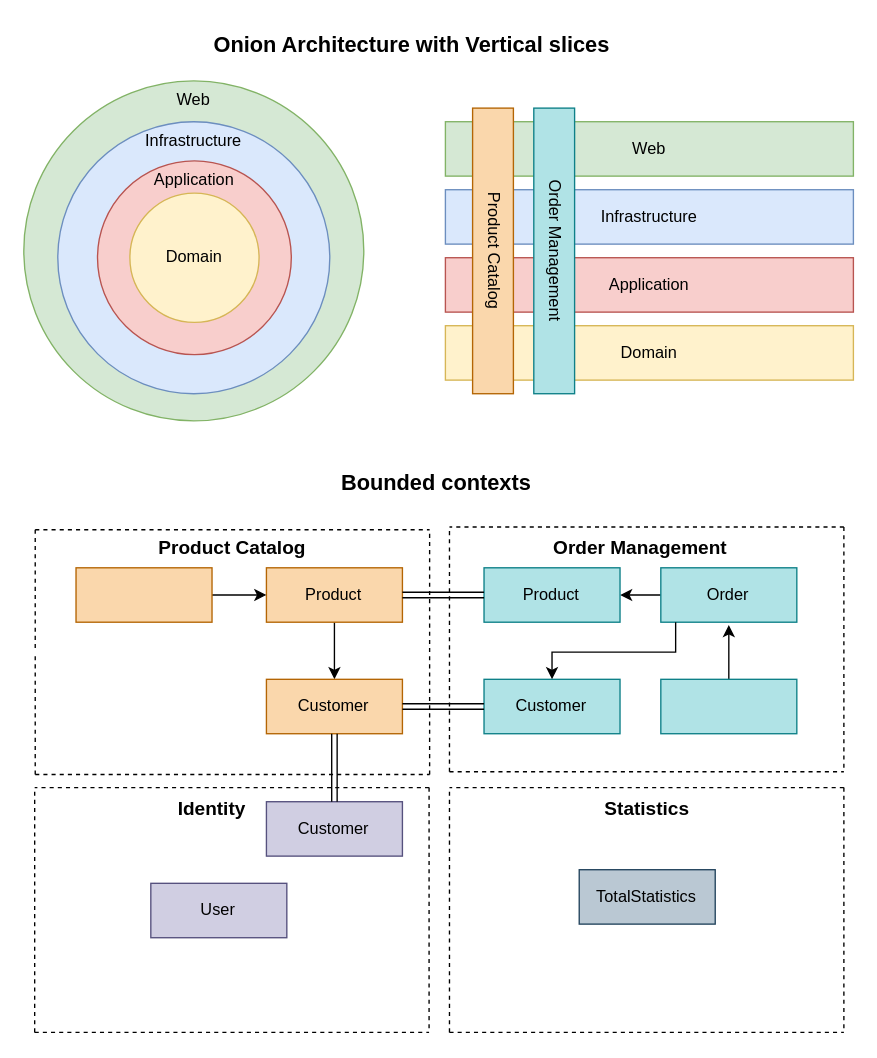
This 877x1058 diagram has some shape labels left out. The shapes that lost their labels are listed below. From the top down, each one's centre as x and y in pixels, then its label:
At [143,594]: "Supplier".
At [728,706]: "Order Item".
